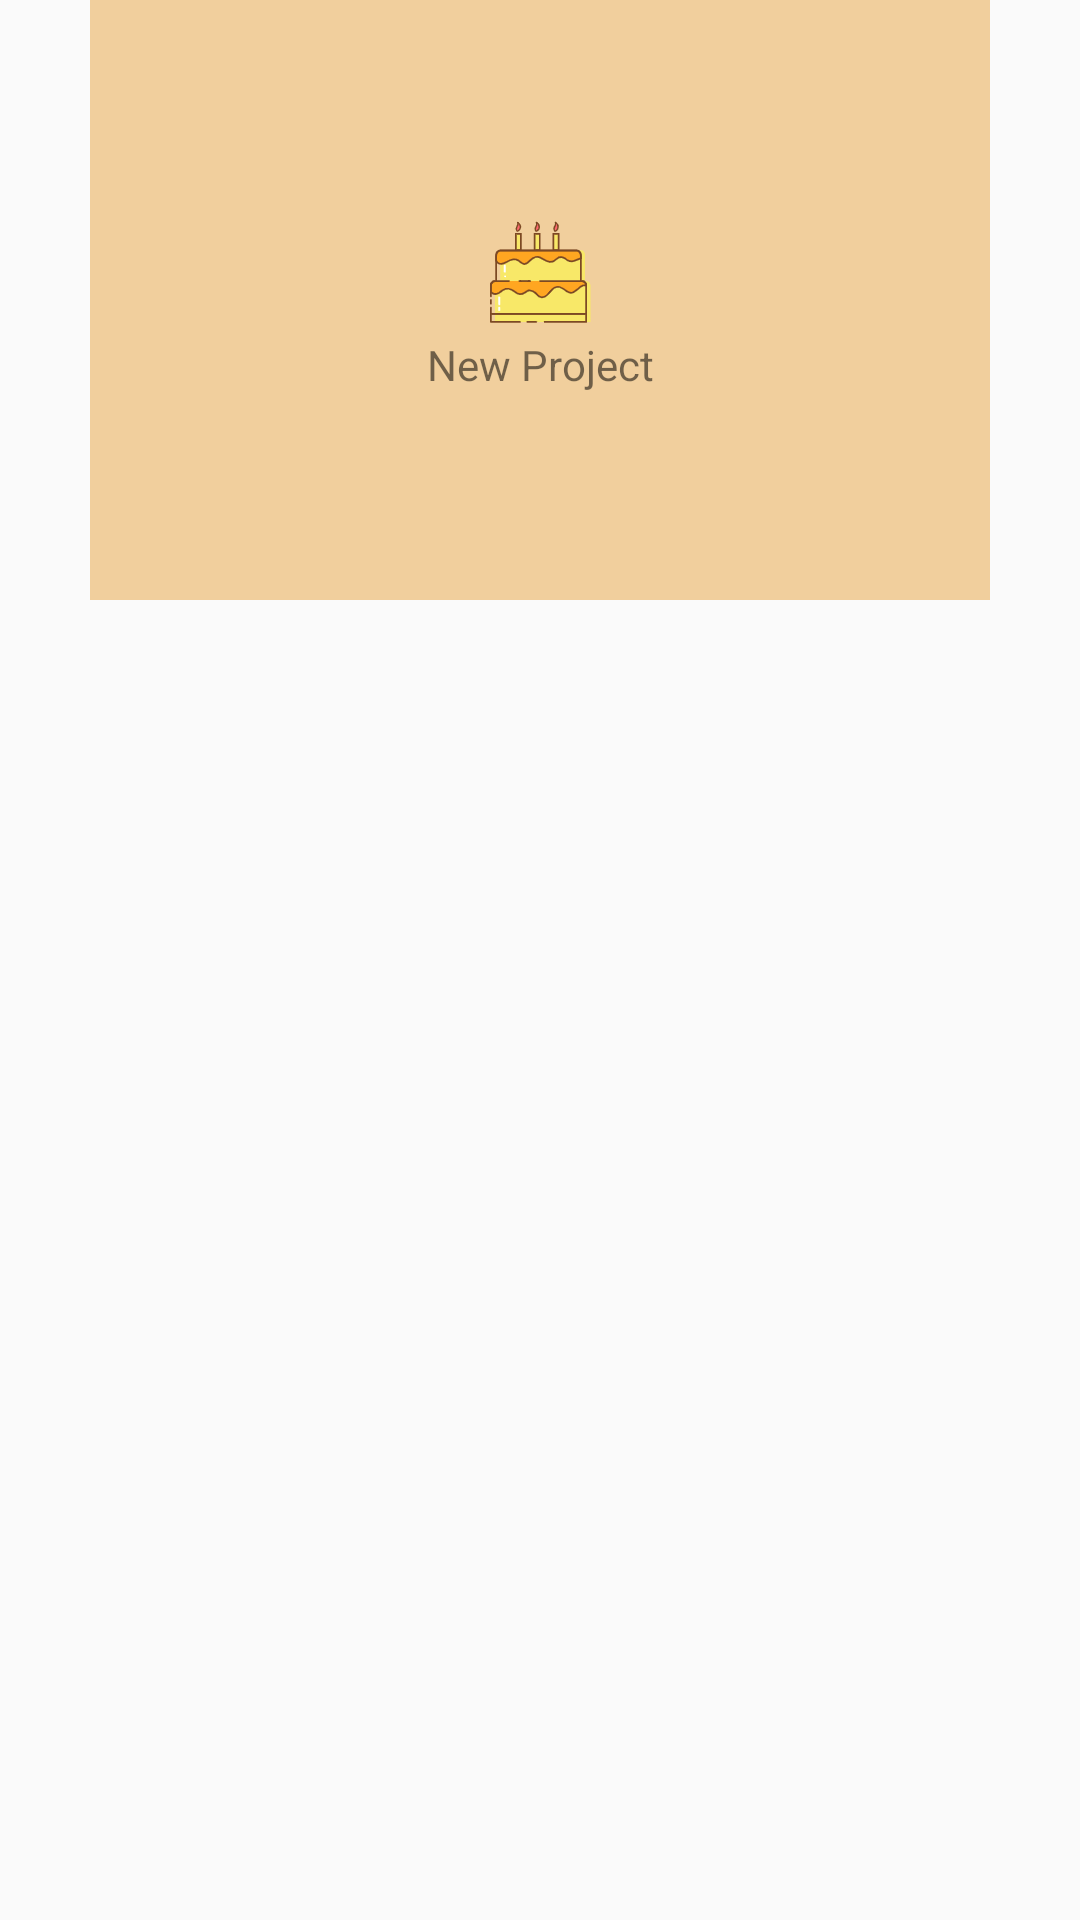

Screen size 1080 x 1920. Icon name, then its center in pixels as (x=x, y=y):
cake: (x=540, y=272)
